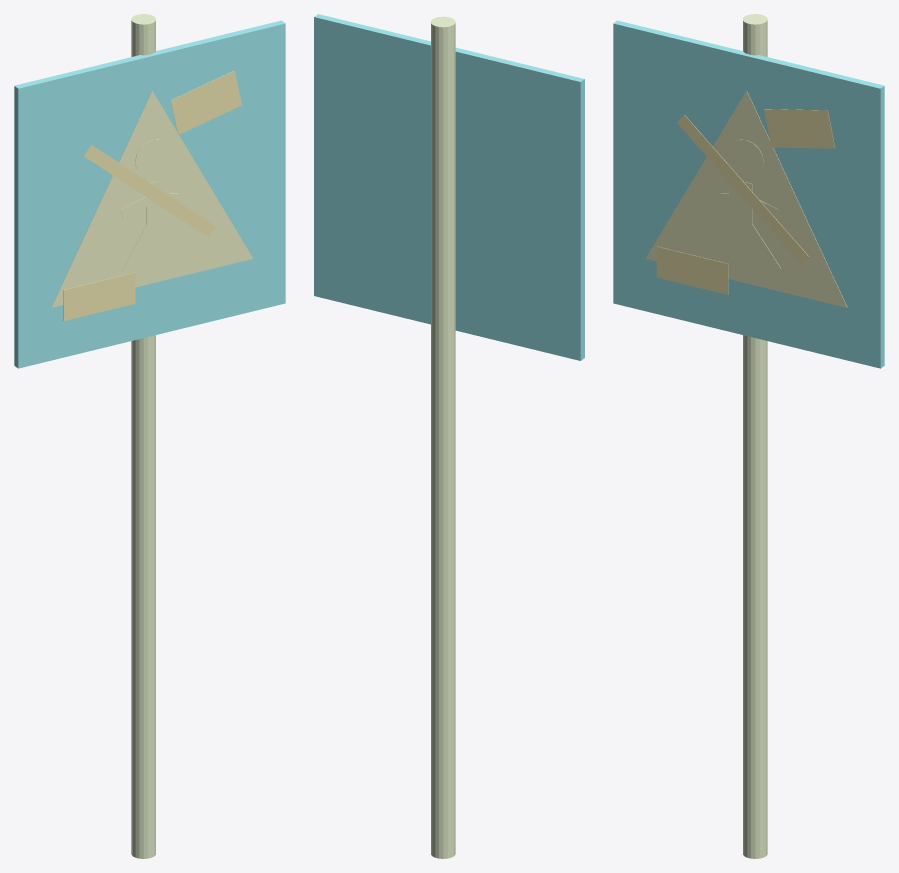
File: sign_pedestrian_crossing_weathered.glb
3 views of the same model, side by side, from view 1: azimuth 30°, elevation 25°; view 2: azimuth 150°, elevation 25°; view 3: azimuth 330°, elevation 25° (orthographic).
Visible parts, largest first — view 1: plate_base_00, layer_1_00, pole, layer_3_00, layer_3_01, layer_3_02, layer_2_00, layer_2_04; view 2: plate_base_00, pole; view 3: plate_base_00, layer_1_00, pole, layer_3_00, layer_3_01, layer_3_02, layer_2_00, layer_2_04.
Part boxes in pixels (<box>): plate_base_00: <box>14,20,285,368</box>; layer_1_00: <box>51,90,252,307</box>; pole: <box>131,14,155,858</box>; layer_3_00: <box>170,70,241,134</box>; layer_3_01: <box>63,272,135,320</box>; layer_3_02: <box>84,145,215,237</box>; layer_2_00: <box>135,139,169,176</box>; layer_2_04: <box>121,222,156,274</box>; plate_base_00: <box>314,14,584,360</box>; pole: <box>431,16,455,858</box>; plate_base_00: <box>613,20,884,368</box>; layer_1_00: <box>646,90,847,307</box>; pole: <box>743,14,767,858</box>; layer_3_00: <box>764,109,835,148</box>; layer_3_01: <box>656,246,728,294</box>; layer_3_02: <box>677,115,808,264</box>; layer_2_00: <box>729,139,763,176</box>; layer_2_04: <box>715,219,749,262</box>.
Bounding box in the file's own units: 0.738 × 2.2 × 0.074.
